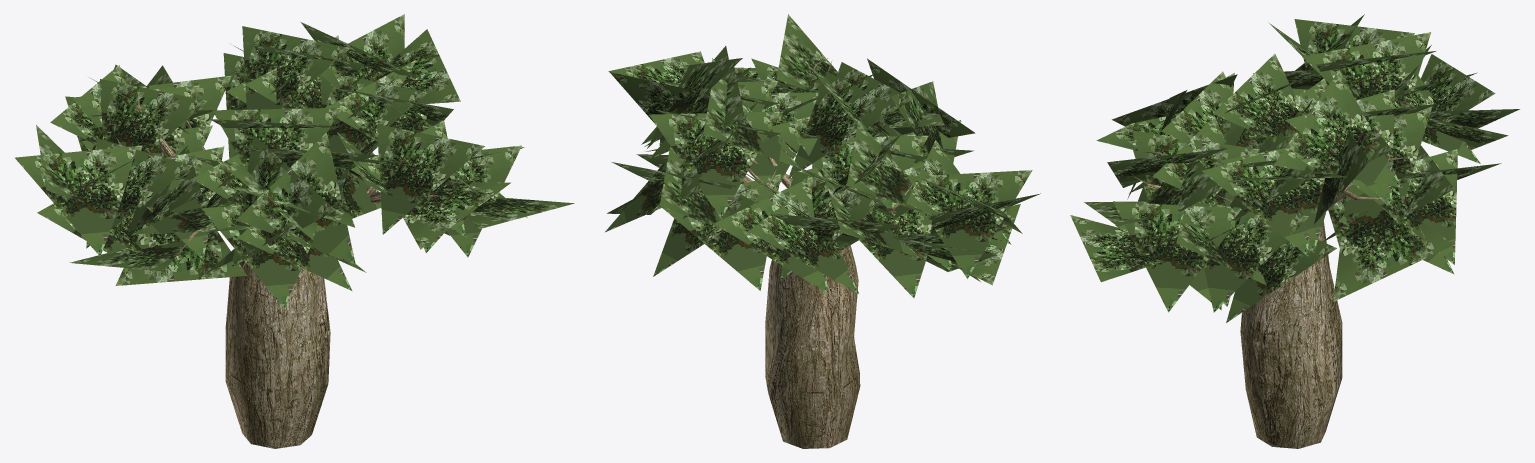
Rendered from baobab_v4.glb.
3 views of the same model, side by side, from view 1: azimuth 30°, elevation 25°; view 2: azimuth 150°, elevation 25°; view 3: azimuth 270°, elevation 25° (orthographic).
Visible parts, largest first — view 1: canopy158, tree_baobab_trunk_d; view 2: canopy158, tree_baobab_trunk_d; view 3: canopy158, tree_baobab_trunk_d.
Boxes of the visible parts, x1,y1,x2,y2 form: canopy158: (15, 14, 574, 308); tree_baobab_trunk_d: (116, 97, 443, 448); canopy158: (605, 14, 1040, 298); tree_baobab_trunk_d: (645, 45, 913, 448); canopy158: (1070, 14, 1519, 322); tree_baobab_trunk_d: (1131, 44, 1407, 448).
Bounding box in the file's own units: 8.73 × 7.38 × 7.77.
Materials: 2 (2 with a texture image).
